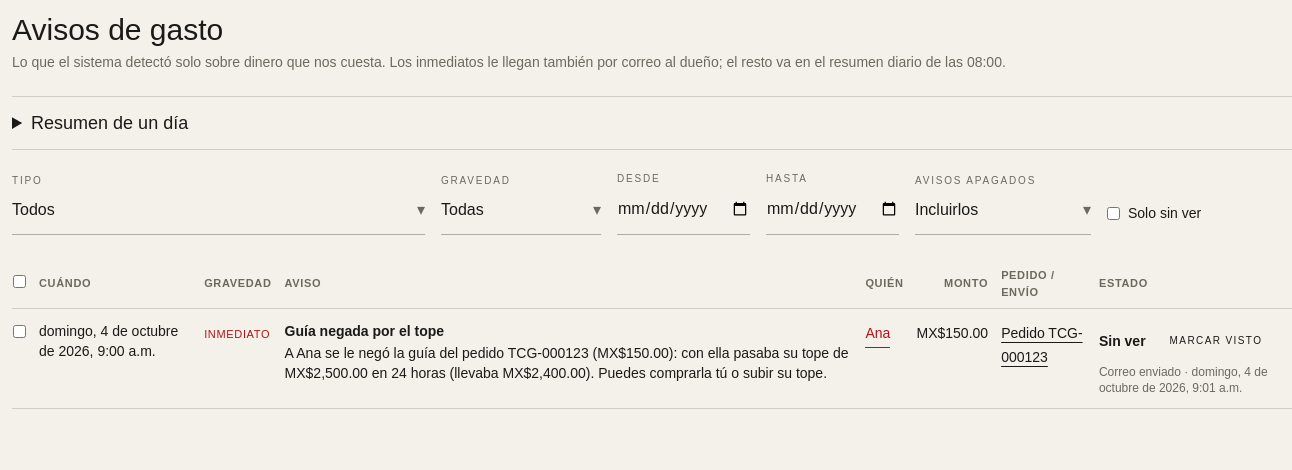
Test case: UX-GAS-2 · filtros en la URL, «Marcar como vistos», ⛔ sin borrar ni «no visto» › 🔒 v1.80.12.10: `skipped` ⇒ se dice cuántos no se marcaron (sobre uno mismo o la cuenta del dueño)
Click the button "Marcar visto" at (1216, 340), box [1154,321,1278,360]
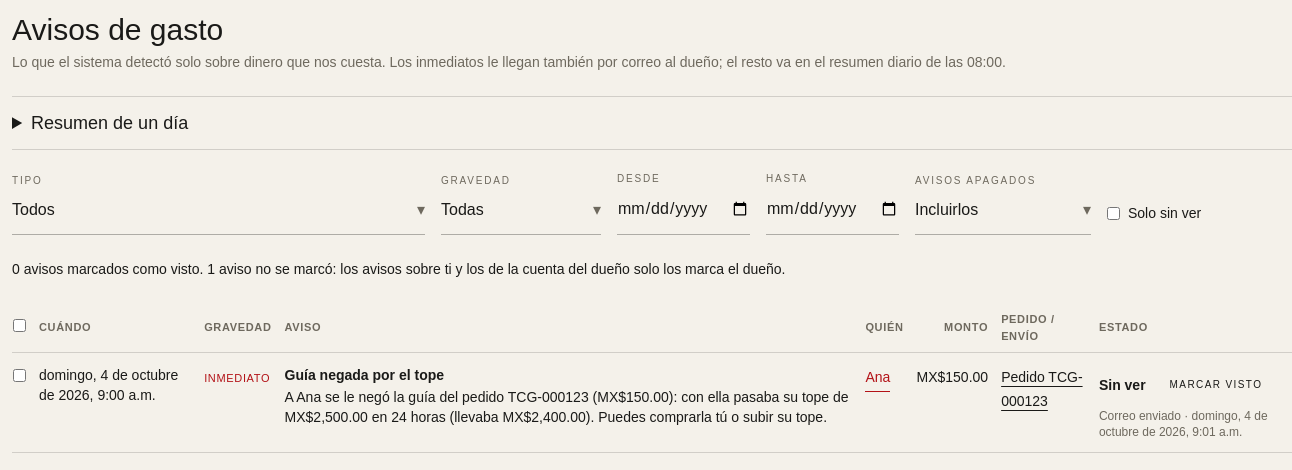
Expected: the text "1 aviso no se marcó: los avisos sobre ti y los de la cuenta del dueño solo los marca el dueño." is shown, [12,261,786,277]
